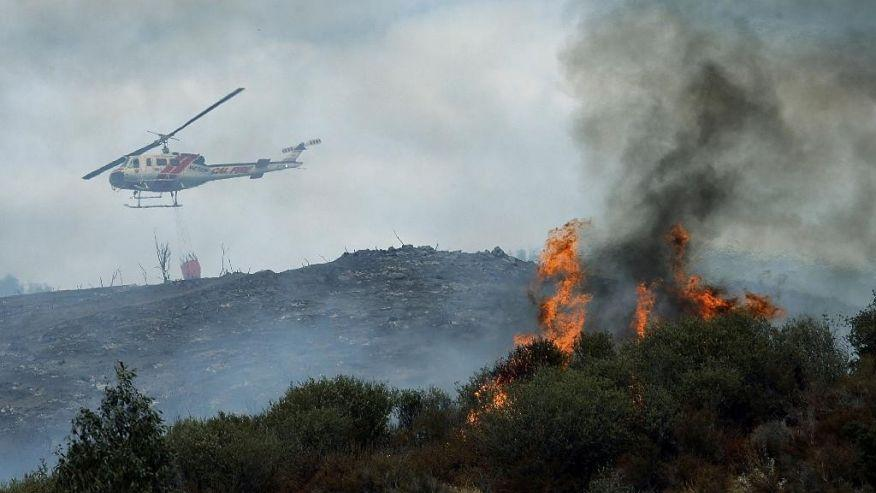fire: (542, 225, 590, 341)
smoke: (686, 69, 779, 214)
